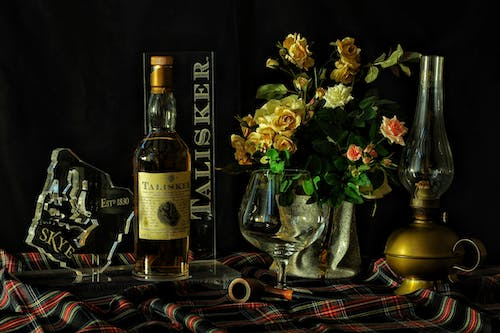alcohol: (132, 54, 192, 281), (237, 168, 327, 302)
